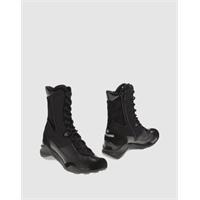shoe: (40, 86, 106, 174), (102, 83, 159, 159)
